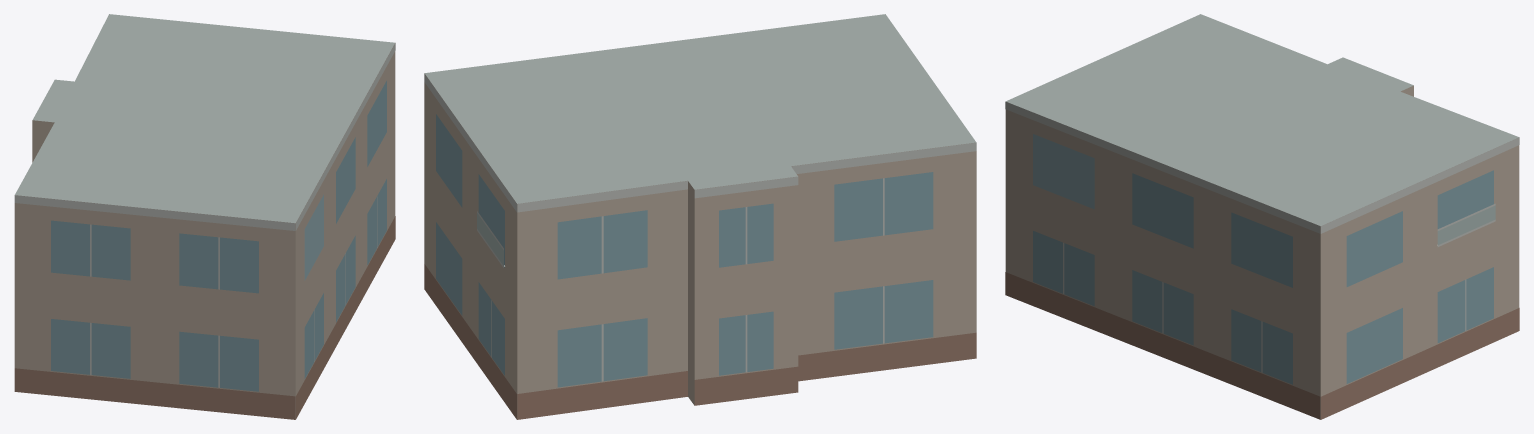
Rendered from survey-upis-32906922.glb.
3 views of the same model, side by side, from view 1: azimuth 30°, elevation 25°; view 2: azimuth 150°, elevation 25°; view 3: azimuth 270°, elevation 25° (orthographic). The views are drawn at different scales.
Visible parts, largest first — view 1: survey-upis-32906922.tmp; view 2: survey-upis-32906922.tmp; view 3: survey-upis-32906922.tmp.
Part boxes in pixels (x1,y1,x2,y2): survey-upis-32906922.tmp: (14,14,395,419); survey-upis-32906922.tmp: (424,14,976,419); survey-upis-32906922.tmp: (1005,14,1519,419).
Bounding box in the file's own units: 14.35 × 6.1 × 14.68.
